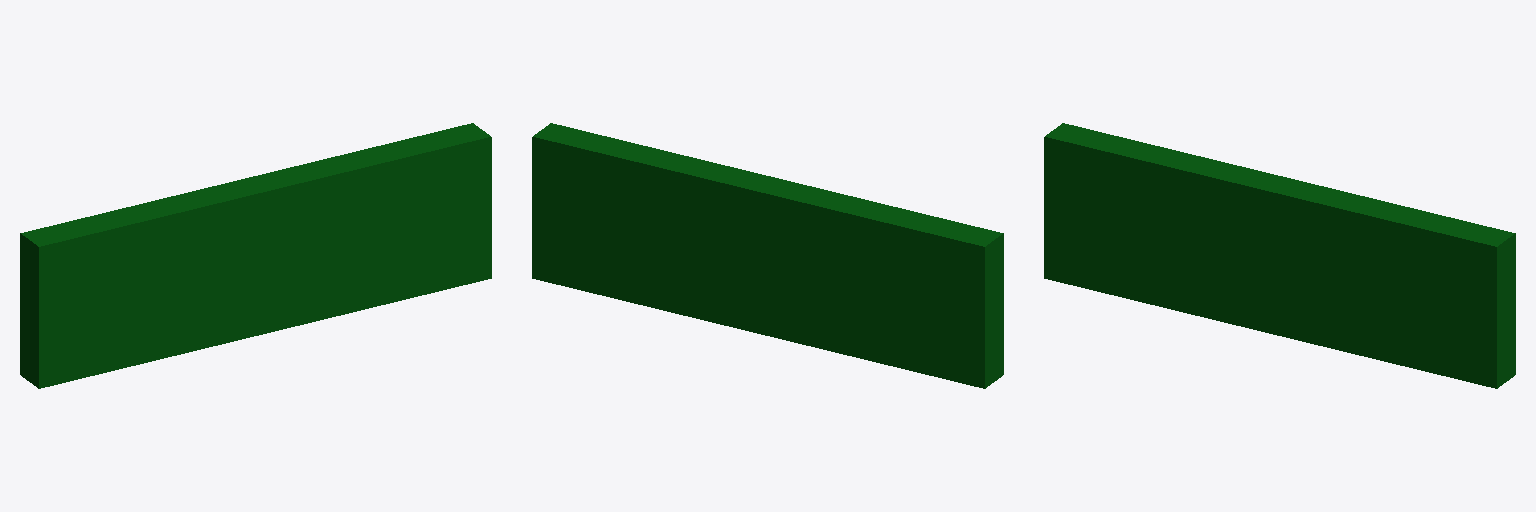
URDF robot description (sts3215):
<?xml version='1.0' encoding='utf-8'?>
<robot name="sts3215">
  <material name="black">
    <color rgba="0.1 0.1 0.1 1.0"/>
  </material>
  <material name="green">
    <color rgba="0.06 0.4 0.1 1.0"/>
  </material>

  <link name="Base">
    <visual>
      <origin xyz="0 0 -0.01" rpy="-1.57079 0 0"/>
      <geometry>
        <mesh filename="bambot_assets/Base_Motor.stl"/>
        
      </geometry>
      <material name="black"/>
    </visual>
  </link>

  <link name="Rotation_Pitch">
    <inertial>
      <mass value="0.119226"/>
      <origin xyz="-9.07886e-05 0.0590972 0.01089" rpy="0 0 0"/>
      <inertia ixx="5.94278e-05" ixy="0" ixz="0" iyy="5.89975e-05" iyz="0" izz="3.13712e-05"/>
    </inertial>
    <visual>
      <geometry>
        <box size="0.07 0.005 0.021"/>
      </geometry>
      <material name="green"/>
    </visual>
  </link>


  <joint name="Rotation" type="revolute">
    <parent link="Base"/>
    <child link="Rotation_Pitch"/>
    <origin xyz="0 0.065 0.036" rpy="0 0 0"/>
    <axis xyz="0 1 0"/>
    <limit lower="-3.14158" upper="3.14158" effort="35" velocity="1"/>
  </joint>
</robot>

--- Facts derived from the render (not from the file) ---
The picture shows the robot from 3 angles, left to right: view 1: azimuth 30°, elevation 25°; view 2: azimuth 150°, elevation 25°; view 3: azimuth 330°, elevation 25°; orthographic projection.
Robot: sts3215 — 2 links, 1 joints (1 revolute); root link Base; default pose: all joints at 0.
Visible links, largest first — view 1: Rotation_Pitch; view 2: Rotation_Pitch; view 3: Rotation_Pitch.
Boxes of the visible links, <box> form: Rotation_Pitch: <box>20,123,491,388</box>; Rotation_Pitch: <box>532,123,1003,388</box>; Rotation_Pitch: <box>1044,123,1515,388</box>.
Size in the robot's own frame: 0.07 by 0.005 by 0.021 metres.
Meshes: 1 distinct files referenced, 0 mesh visuals loaded (none loaded); not drawn: 1 (reference not matched to a file when rendering).
